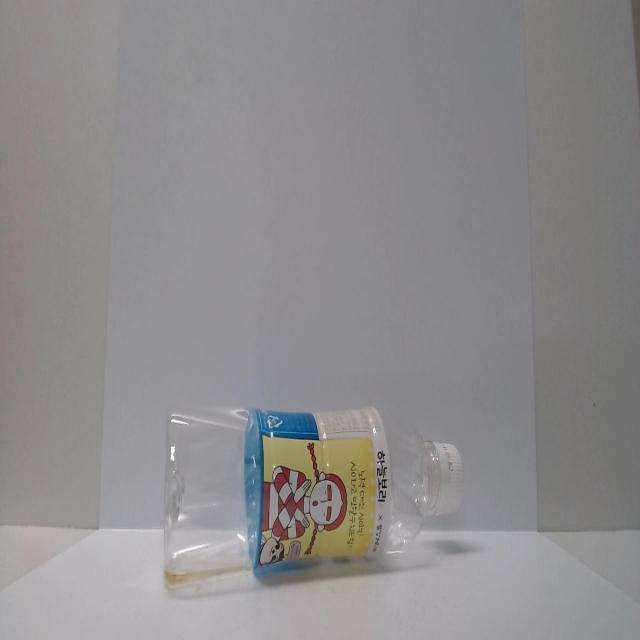bottle: (150, 369, 482, 607)
